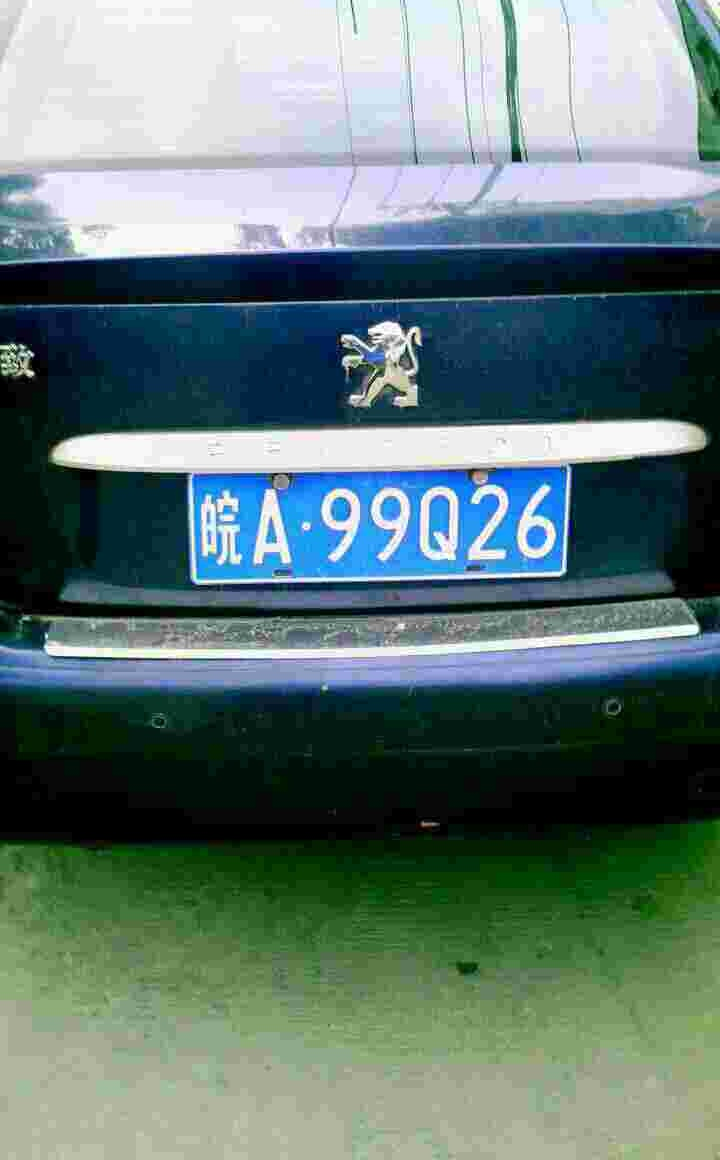license_plate: (183, 463, 563, 572)
